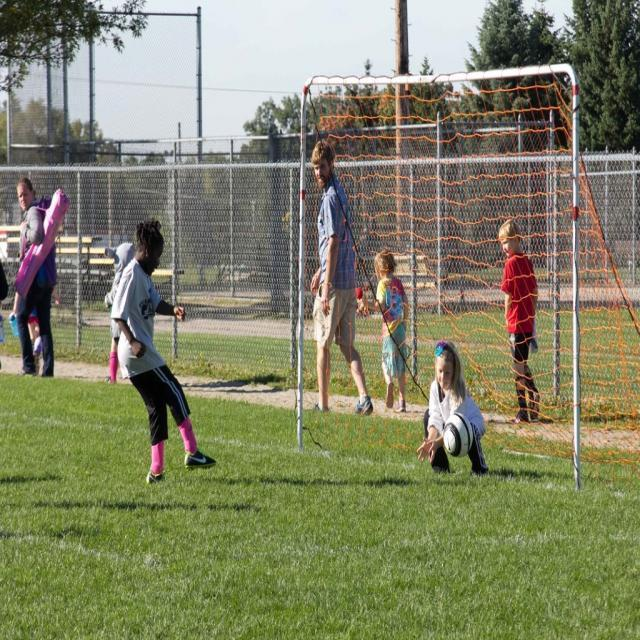ball: (443, 414, 474, 459)
